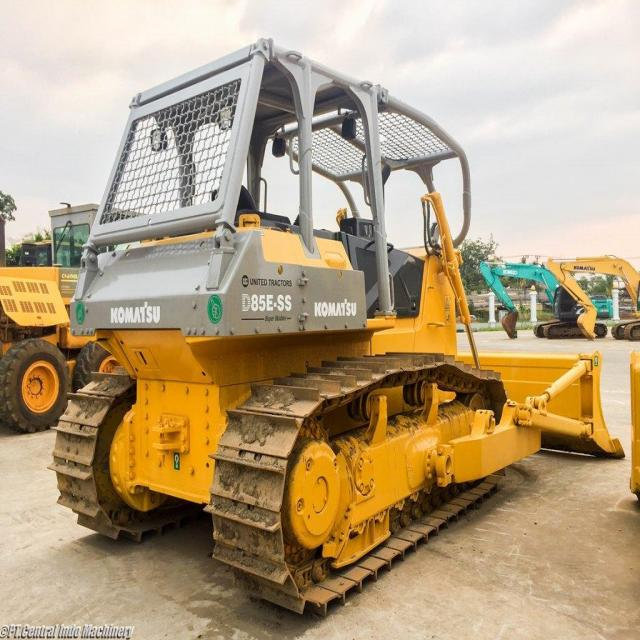Bulldozer: (43, 18, 635, 617)
